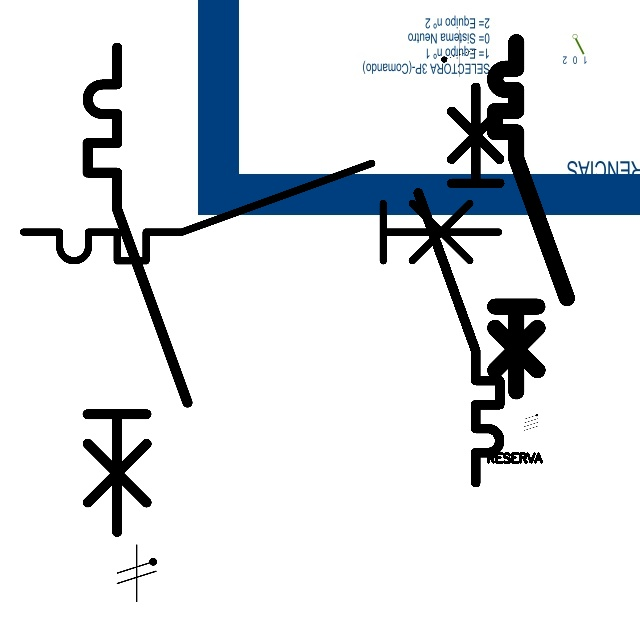interruptor_termomagnetico: (75, 35, 199, 544), (11, 151, 511, 273), (408, 77, 510, 493), (486, 33, 576, 400)
